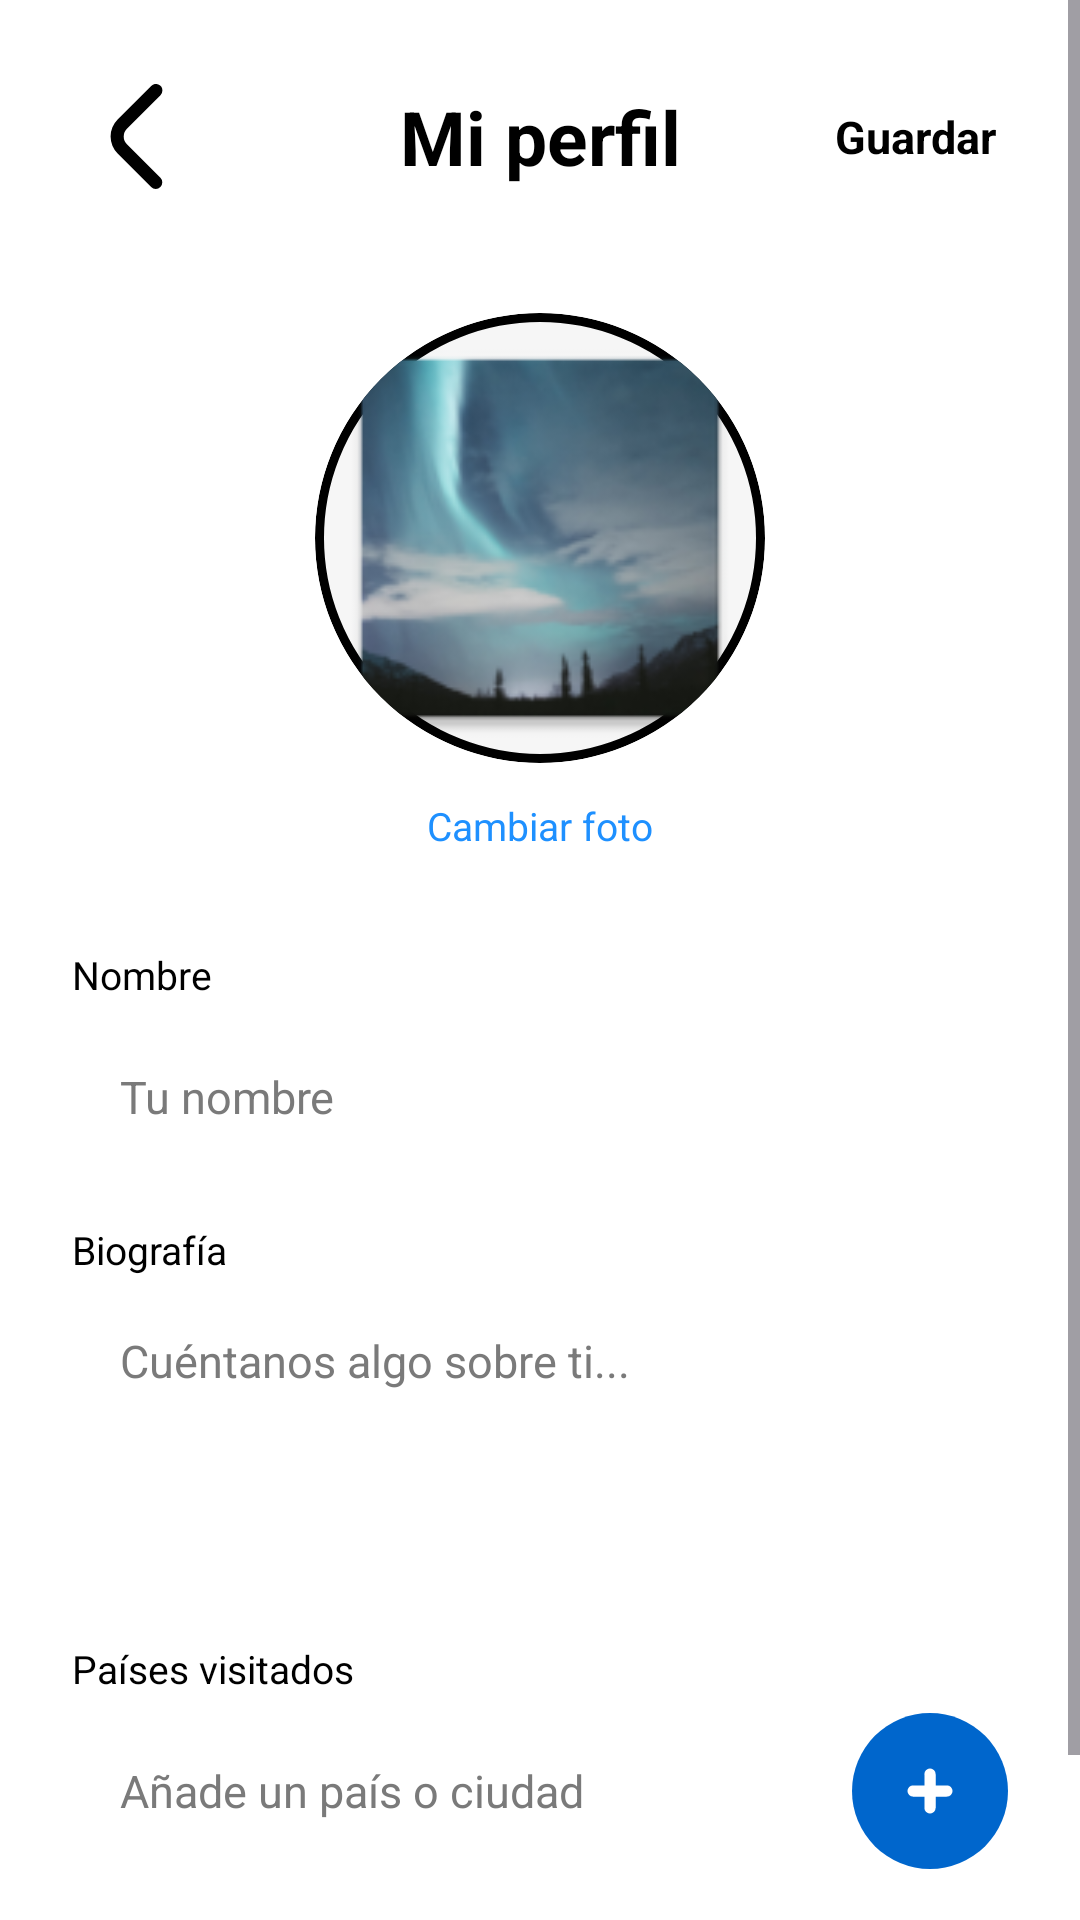

Named icons in this screenshot (1080 × 1920) and their bounding boxes, box=[x1, y1, x2, y2]:
back: box=[110, 84, 163, 189]
plus: box=[852, 1713, 1008, 1869]
